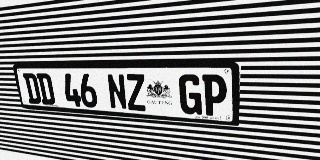4: (62, 73, 82, 107)
6: (77, 74, 98, 108)
D: (36, 73, 56, 105), (23, 73, 42, 104)
G: (179, 74, 202, 115)
N: (106, 74, 128, 110)
P: (202, 74, 227, 117)
Z: (125, 74, 147, 111)
